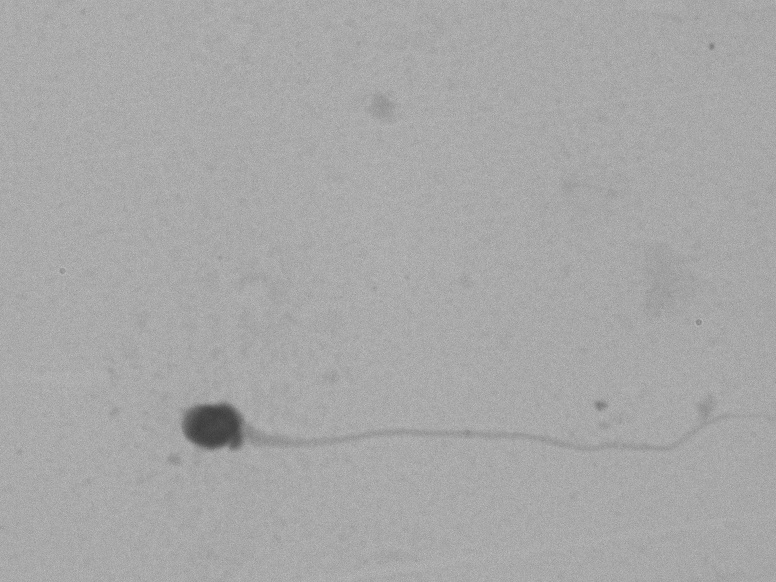Abnormal: (136, 346, 750, 520)
